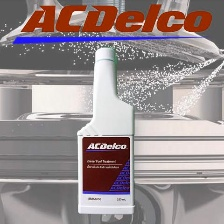cleaning_solution: (73, 45, 137, 218)
